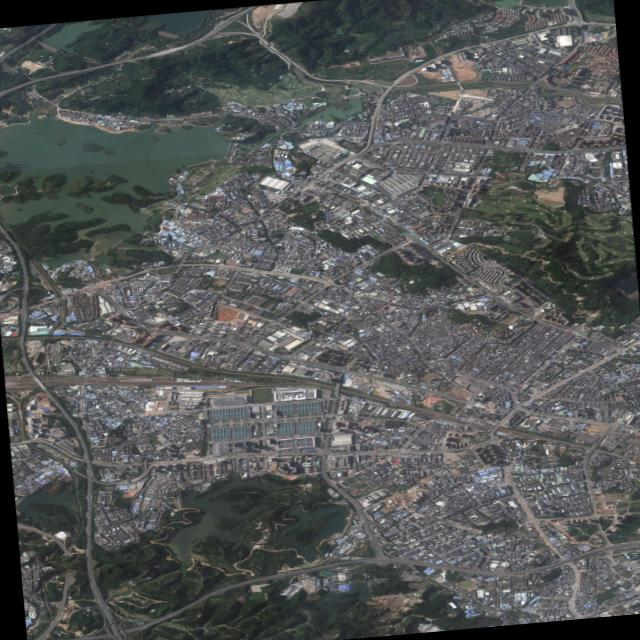storage-tank: (10, 431, 14, 433), (11, 433, 14, 435), (10, 428, 13, 430), (10, 430, 14, 431), (10, 427, 13, 428)
